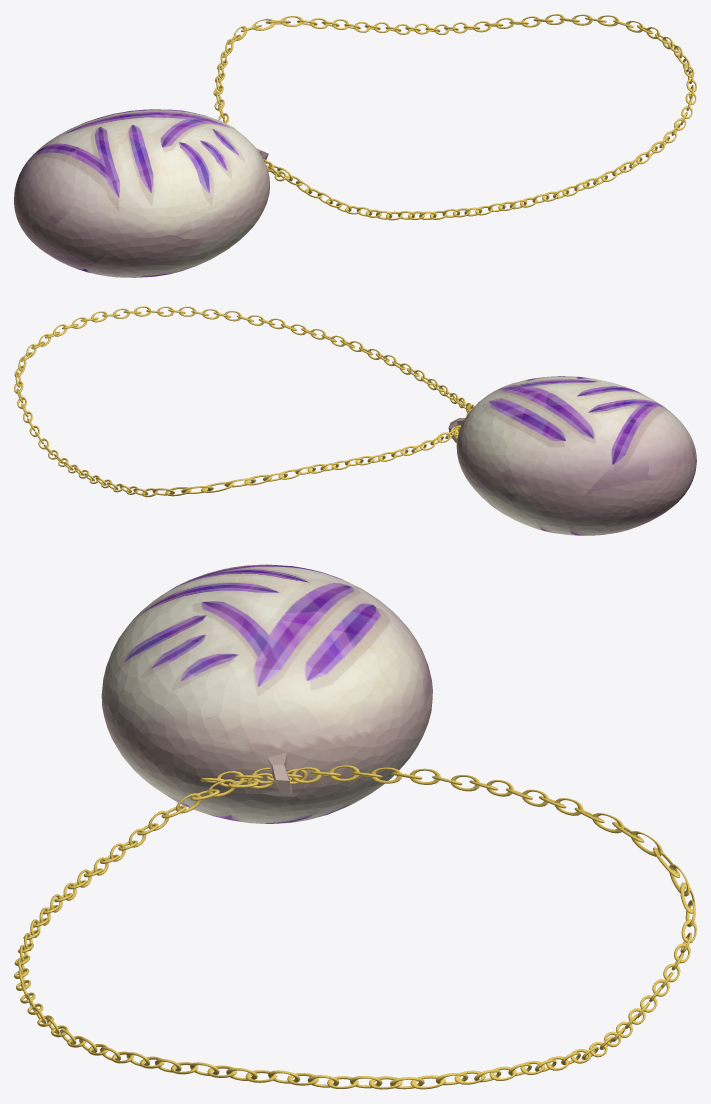
The model's file is amuletscp.fbx.
3 renders of one model, top to bottom at view 1: azimuth 30°, elevation 25°; view 2: azimuth 150°, elevation 25°; view 3: azimuth 270°, elevation 25°, orthographic. The views are drawn at different scales.
Visible parts, largest first — view 1: amulet, Cube.012; view 2: amulet, Cube.012; view 3: amulet, Cube.012.
Boxes of the visible parts, bbox=[...] form: amulet: bbox=[14, 109, 269, 277]; Cube.012: bbox=[213, 14, 696, 220]; amulet: bbox=[448, 376, 696, 535]; Cube.012: bbox=[14, 306, 474, 497]; amulet: bbox=[101, 564, 432, 823]; Cube.012: bbox=[14, 765, 696, 1089].
Bounding box in the file's own units: 29.31 × 5.79 × 17.72.
